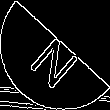N_NE: (25, 22, 85, 88)
